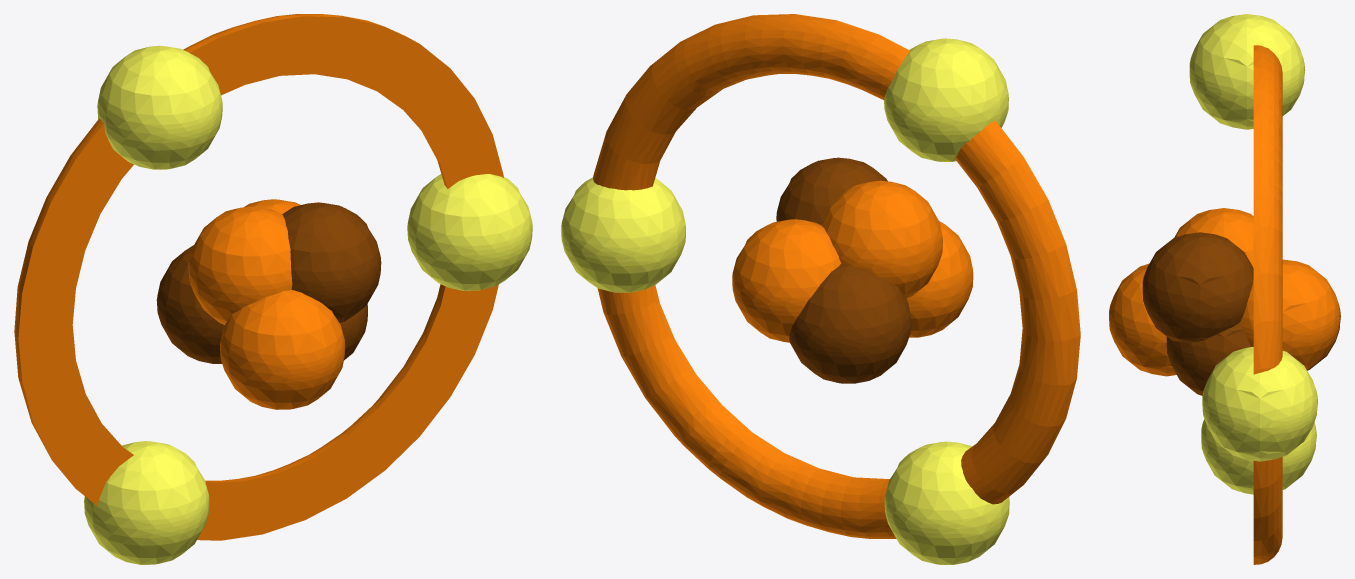
The model's file is atom.dae.
3 views of the same model, side by side, from view 1: azimuth 30°, elevation 25°; view 2: azimuth 150°, elevation 25°; view 3: azimuth 270°, elevation 25° (orthographic). The views are drawn at different scales.
Parts seen in each view (by area): view 1: node; view 2: node; view 3: node.
Part boxes in pixels (x1,y1,x2,y2): node: (14,14,532,564); node: (561,14,1080,564); node: (1109,14,1340,564).
Size of the model in its own units: 14.06 by 13.5 by 5.98.
